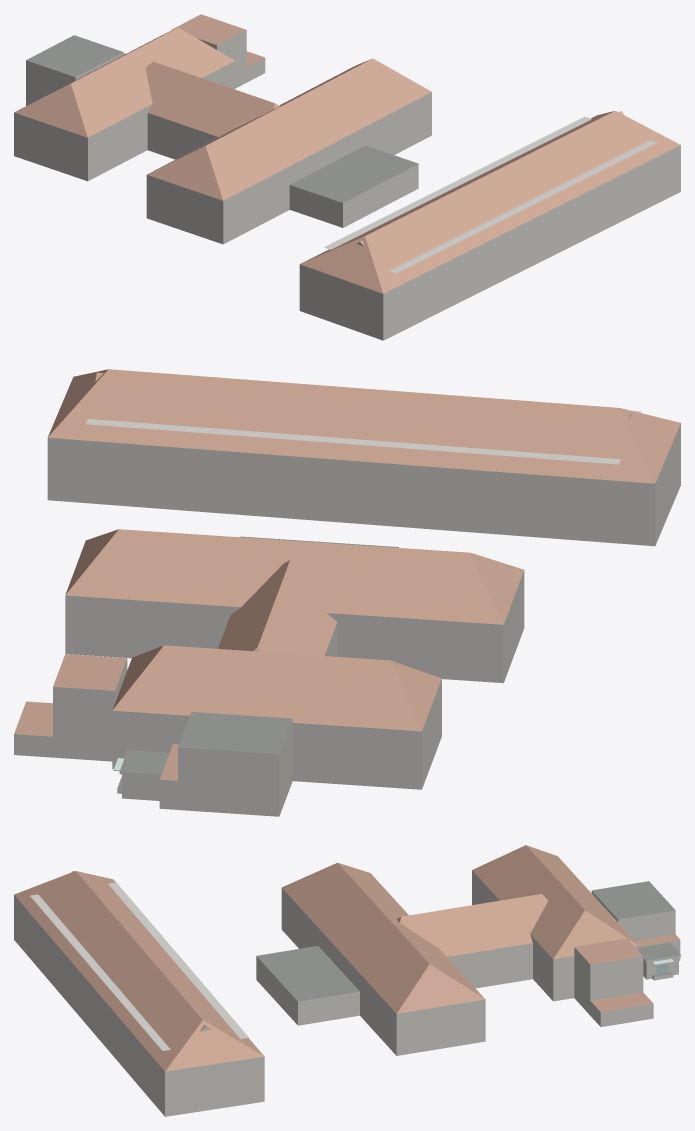
The model's file is gridID_82.dae.
3 views of the same model, one above another, from view 1: azimuth 30°, elevation 25°; view 2: azimuth 150°, elevation 25°; view 3: azimuth 270°, elevation 25° (orthographic). The views are drawn at different scales.
Parts seen in each view (by area): view 1: model_gridID_82_w114518347_001, model_gridID_82_w377707518, model_gridID_82_w114518347; view 2: model_gridID_82_w114518347_001, model_gridID_82_w377707518, model_gridID_82_w114518347; view 3: model_gridID_82_w114518347_001, model_gridID_82_w377707518, model_gridID_82_w114518347.
Part boxes in pixels (<box>): model_gridID_82_w114518347_001: <box>14,14,431,244</box>; model_gridID_82_w377707518: <box>299,111,680,340</box>; model_gridID_82_w114518347: <box>26,35,125,105</box>; model_gridID_82_w114518347_001: <box>14,529,524,789</box>; model_gridID_82_w377707518: <box>47,369,680,546</box>; model_gridID_82_w114518347: <box>113,712,292,816</box>; model_gridID_82_w114518347_001: <box>256,845,653,1055</box>; model_gridID_82_w377707518: <box>14,871,264,1116</box>; model_gridID_82_w114518347: <box>591,881,680,980</box>.
Size of the model in its own units: 77.87 by 100 by 12.5.
